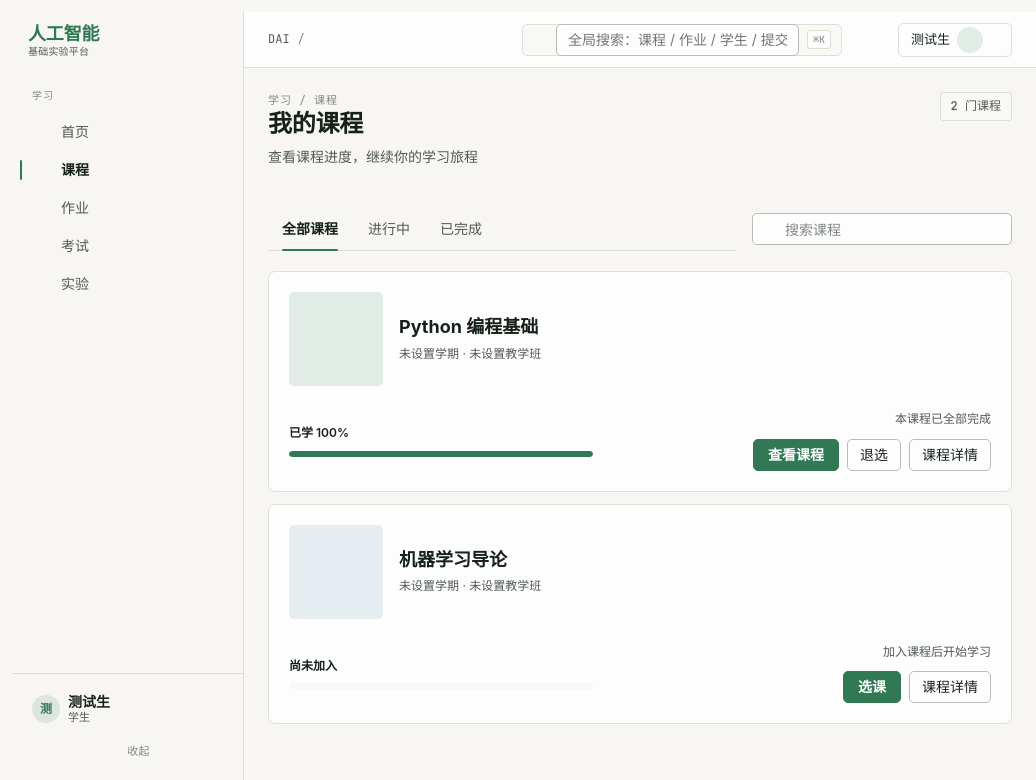
Test: 我的课程 CourseListView（参考图 02） › “已完成”标签页显示 100% 进度课程
Click the tab with class "tab-btn" showing "已完成" at (461,229), box [426, 208, 496, 250]
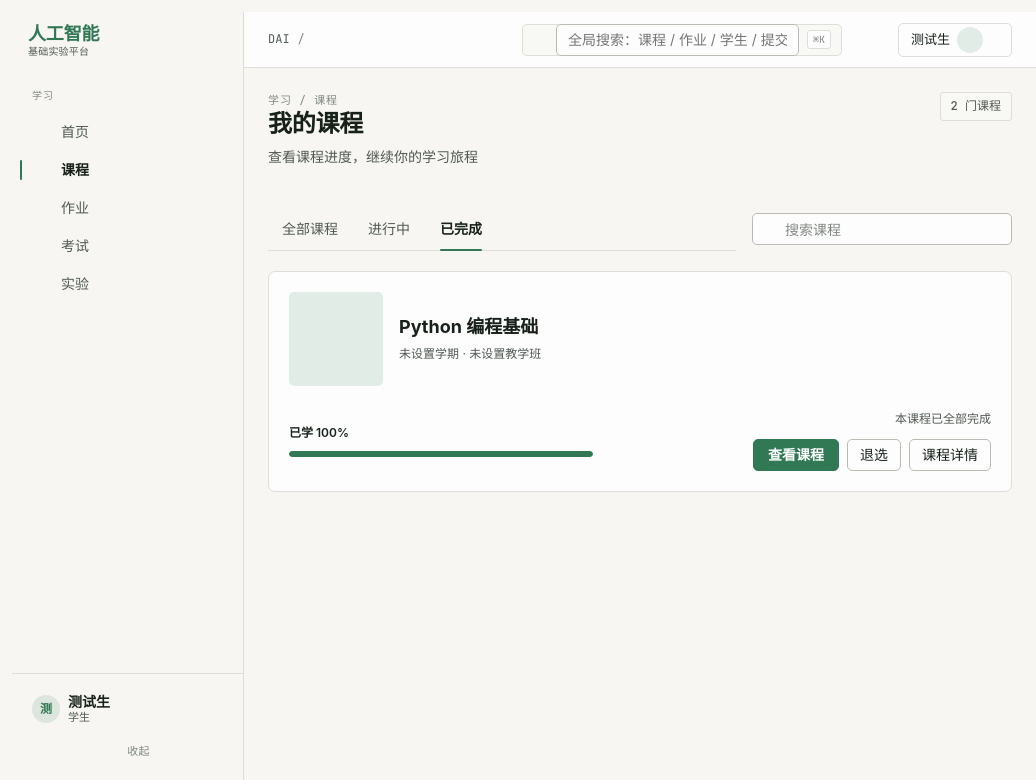
Expected: the text "Python 编程基础" is shown, [399, 315, 541, 339]
Expected: the number of elements with class "course-row" is 1, [268, 271, 1012, 492]
